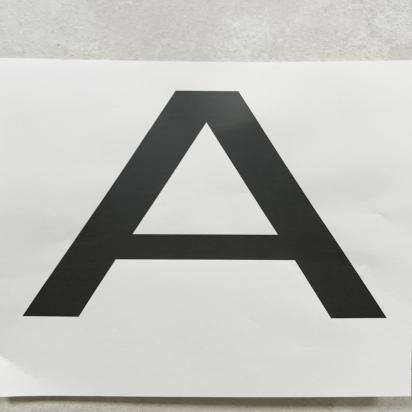seat: (0, 90, 390, 339)
